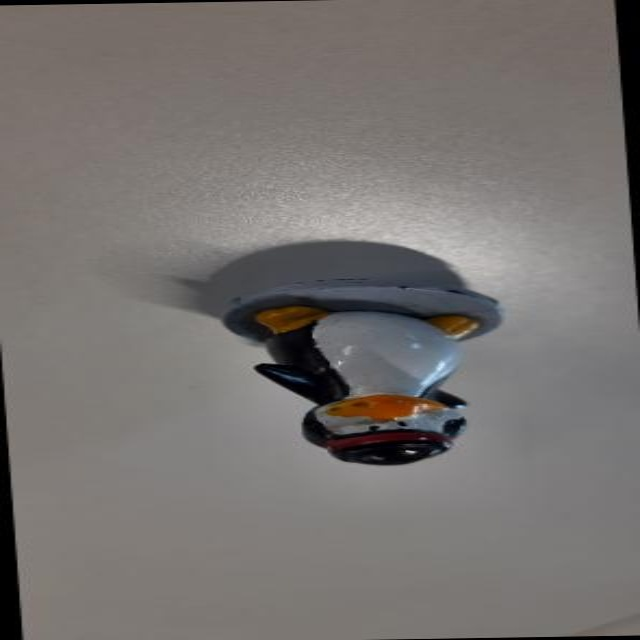Penguin: (182, 275, 534, 474)
